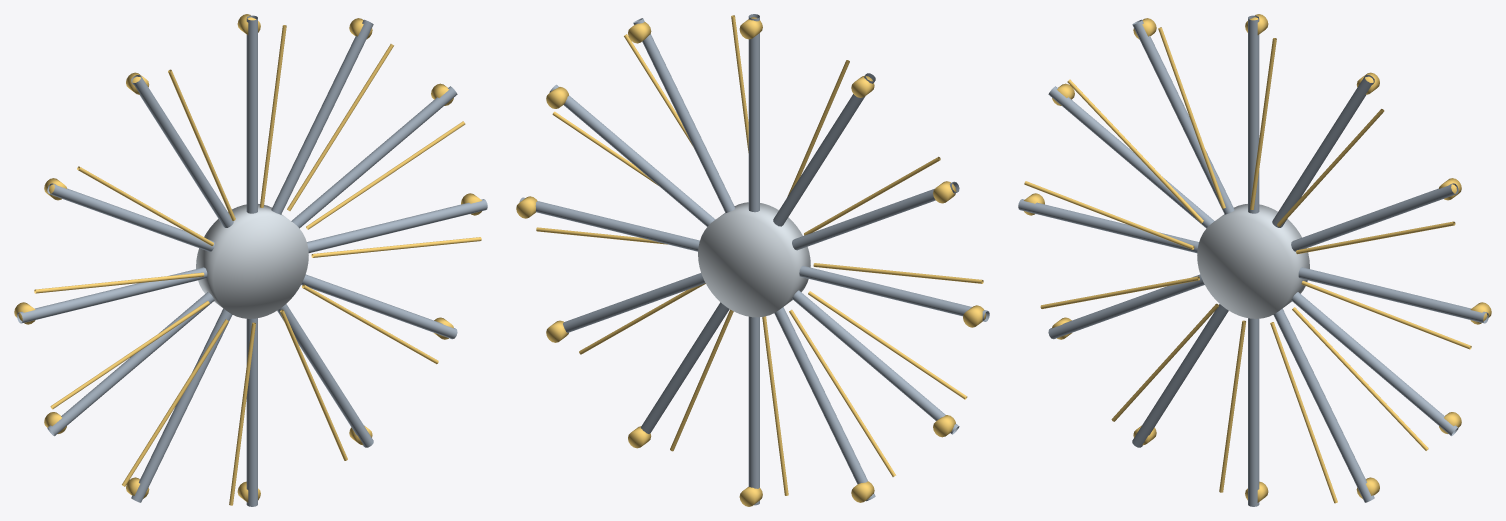
File: L87_03_RotatingHabitatSpokeAssembly_Fitted.fbx
3 views of the same model, side by side, from view 1: azimuth 30°, elevation 25°; view 2: azimuth 150°, elevation 25°; view 3: azimuth 330°, elevation 25° (orthographic).
Visible parts, largest first — view 1: L87_RotatingHabitatSpokeAssembly_ANIM_GRAVITY_RING_SPOKES__t (×3); view 2: L87_RotatingHabitatSpokeAssembly_ANIM_GRAVITY_RING_SPOKES__t (×3); view 3: L87_RotatingHabitatSpokeAssembly_ANIM_GRAVITY_RING_SPOKES__t (×3).
Part boxes in pixels (x1,y1,x2,y2): L87_RotatingHabitatSpokeAssembly_ANIM_GRAVITY_RING_SPOKES__t (×3): (14, 14, 487, 506); L87_RotatingHabitatSpokeAssembly_ANIM_GRAVITY_RING_SPOKES__t (×3): (516, 14, 989, 506); L87_RotatingHabitatSpokeAssembly_ANIM_GRAVITY_RING_SPOKES__t (×3): (1018, 14, 1491, 506).
Size of the model in its own units: 97.92 by 97.92 by 6.24.
